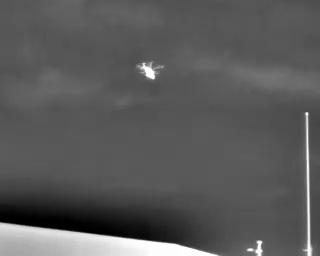HELICOPTER: (132, 57, 169, 86)
